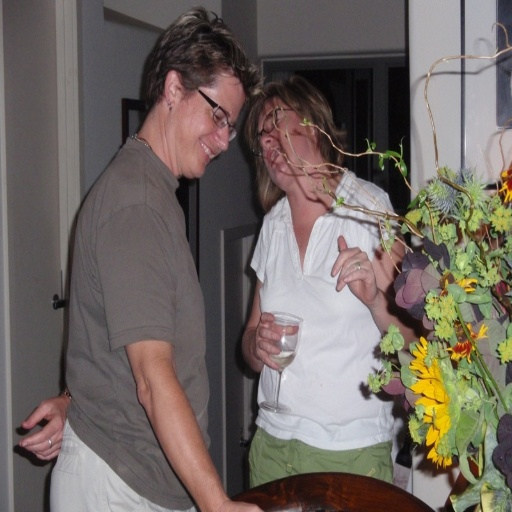hand: (17, 394, 70, 461), (332, 246, 387, 308), (252, 309, 299, 372), (210, 499, 264, 510)
